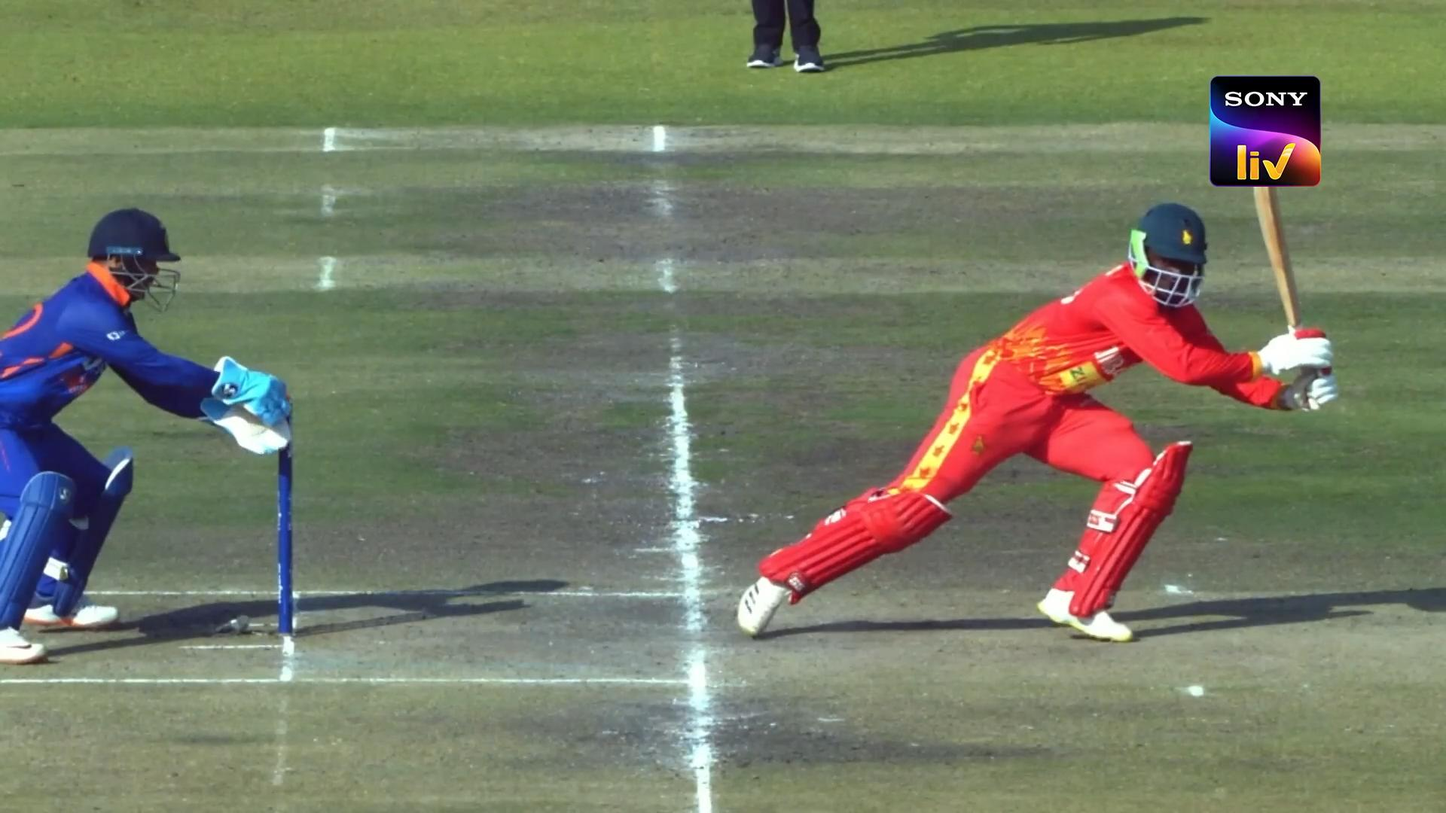batsman: (737, 184, 1341, 640)
